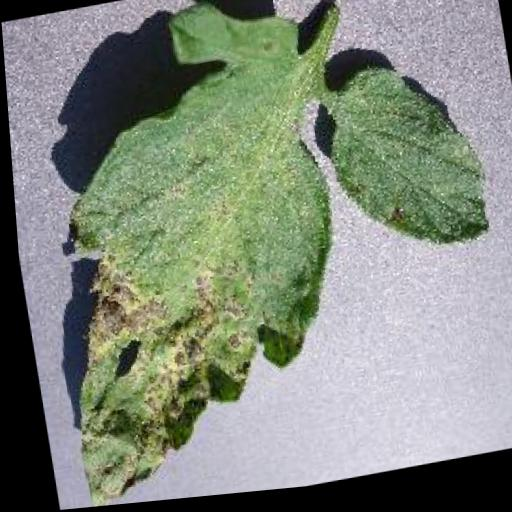Septoria: (10, 0, 370, 511), (317, 57, 491, 273)
